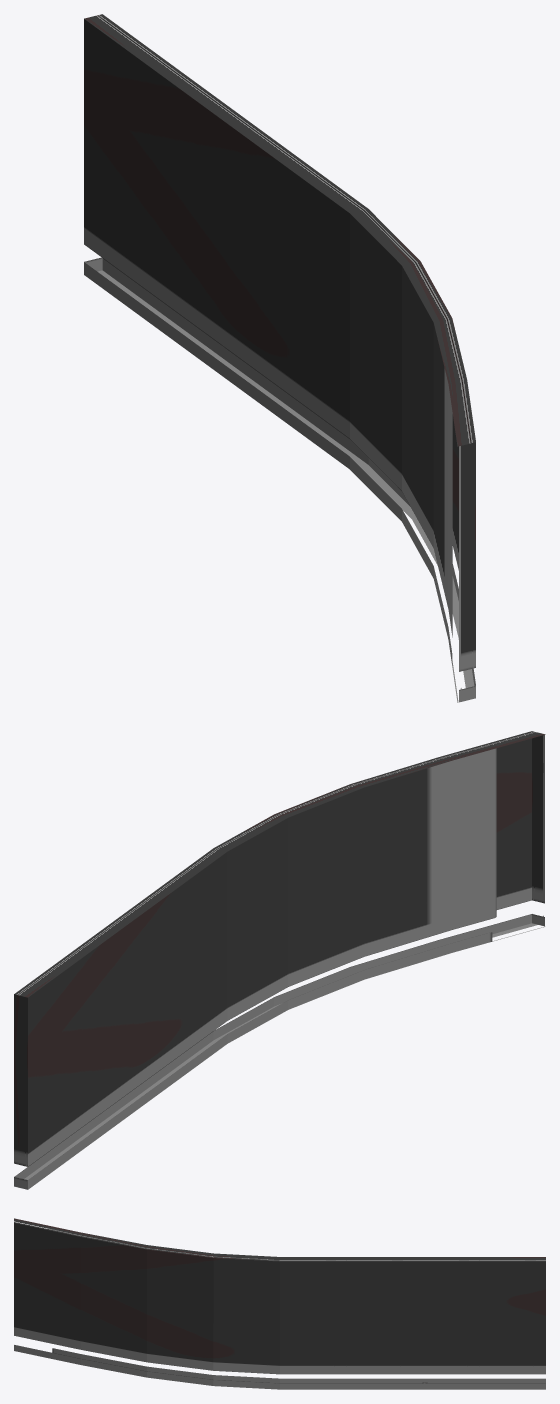
The model's file is WallCarb.fbx.
The picture shows the model from 3 angles, top to bottom: view 1: azimuth 30°, elevation 25°; view 2: azimuth 150°, elevation 25°; view 3: azimuth 270°, elevation 25°; orthographic projection. The views are drawn at different scales.
Parts seen in each view (by area): view 1: Cube; view 2: Cube; view 3: Cube.
Boxes of the visible parts, x1=… form: Cube: x1=84, y1=14, x2=475, y2=702; Cube: x1=14, y1=731, x2=545, y2=1189; Cube: x1=14, y1=1218, x2=545, y2=1389.
Bounding box in the file's own units: 18.99 × 26.26 × 98.85.
Materials: 1 (1 with a texture image).
